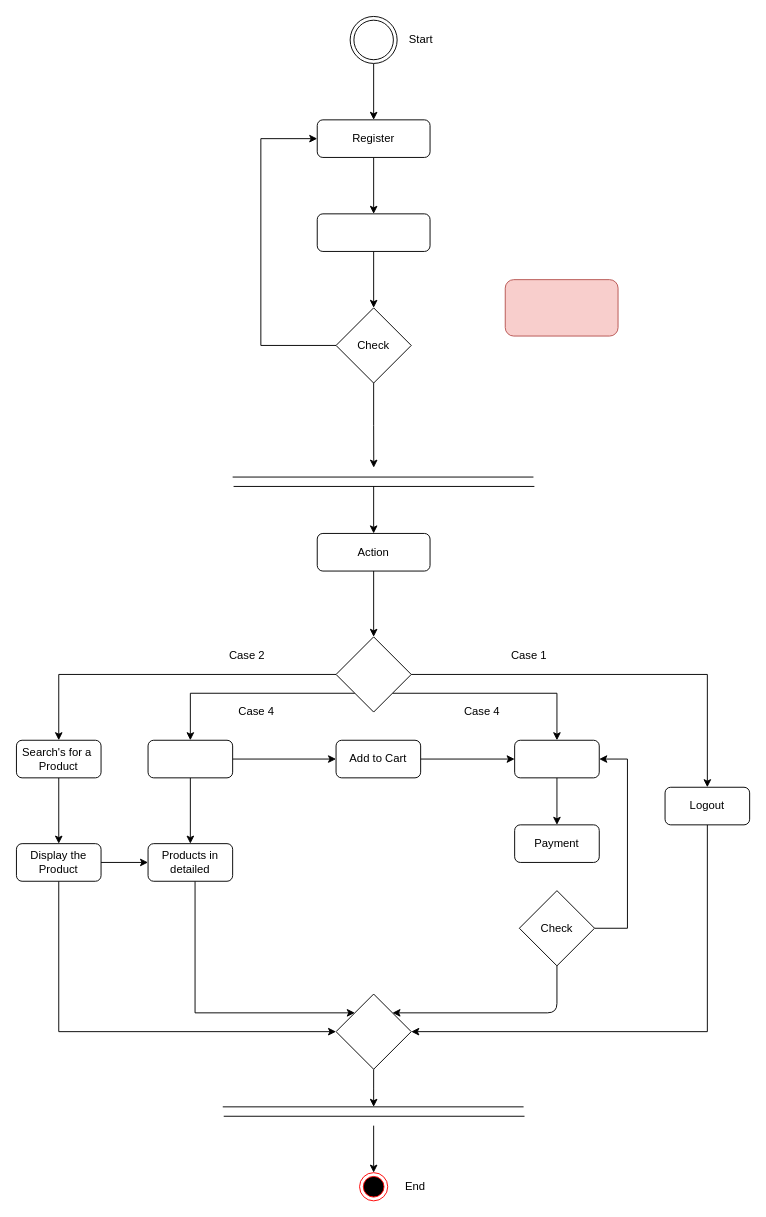
Image size: 766x1217. Some labels were removed from this diagram. The shapes that lost their labels are listed below. From the top down, each one's box as (x1, y1, x2, y2) in pixels, then its label:
(316, 213, 430, 251): Login
(504, 279, 618, 336): K Srikanth 17ETCS002124
(335, 636, 411, 712): Switch
(147, 739, 233, 778): Clicks on Product
(514, 739, 599, 778): Cart
